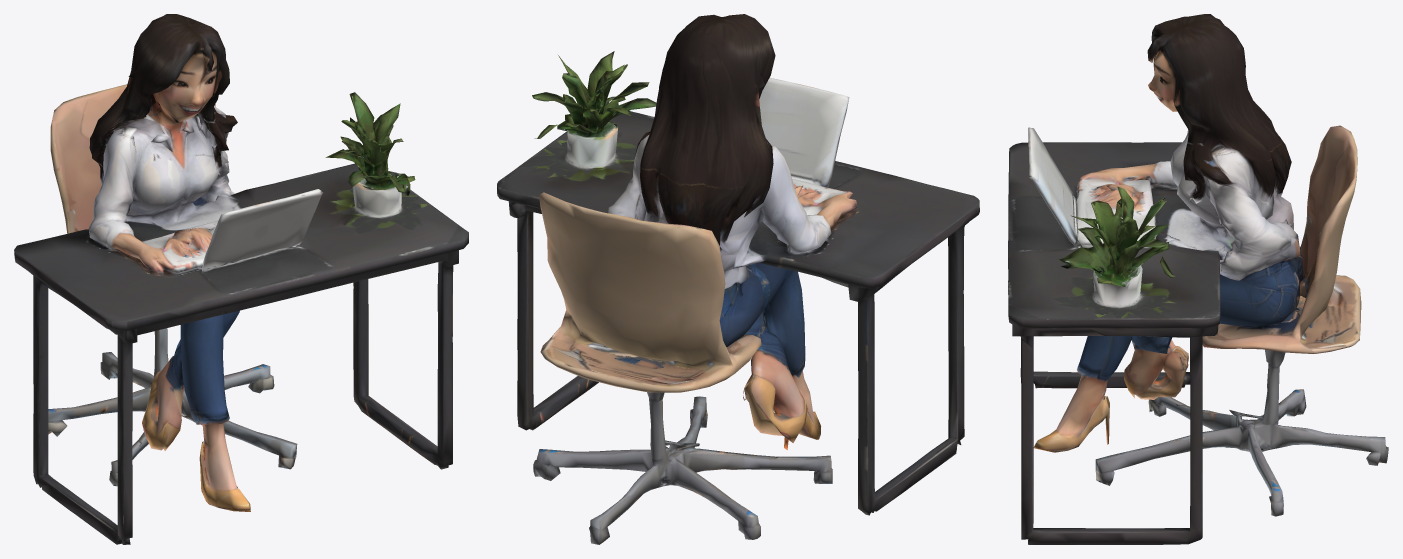
Rendered from cartoon.glb.
3 views of the same model, side by side, from view 1: azimuth 30°, elevation 25°; view 2: azimuth 150°, elevation 25°; view 3: azimuth 270°, elevation 25° (orthographic). The views are drawn at different scales.
Size of the model in its own units: 1.75 by 2 by 1.59.
1 material, 1 textured.
